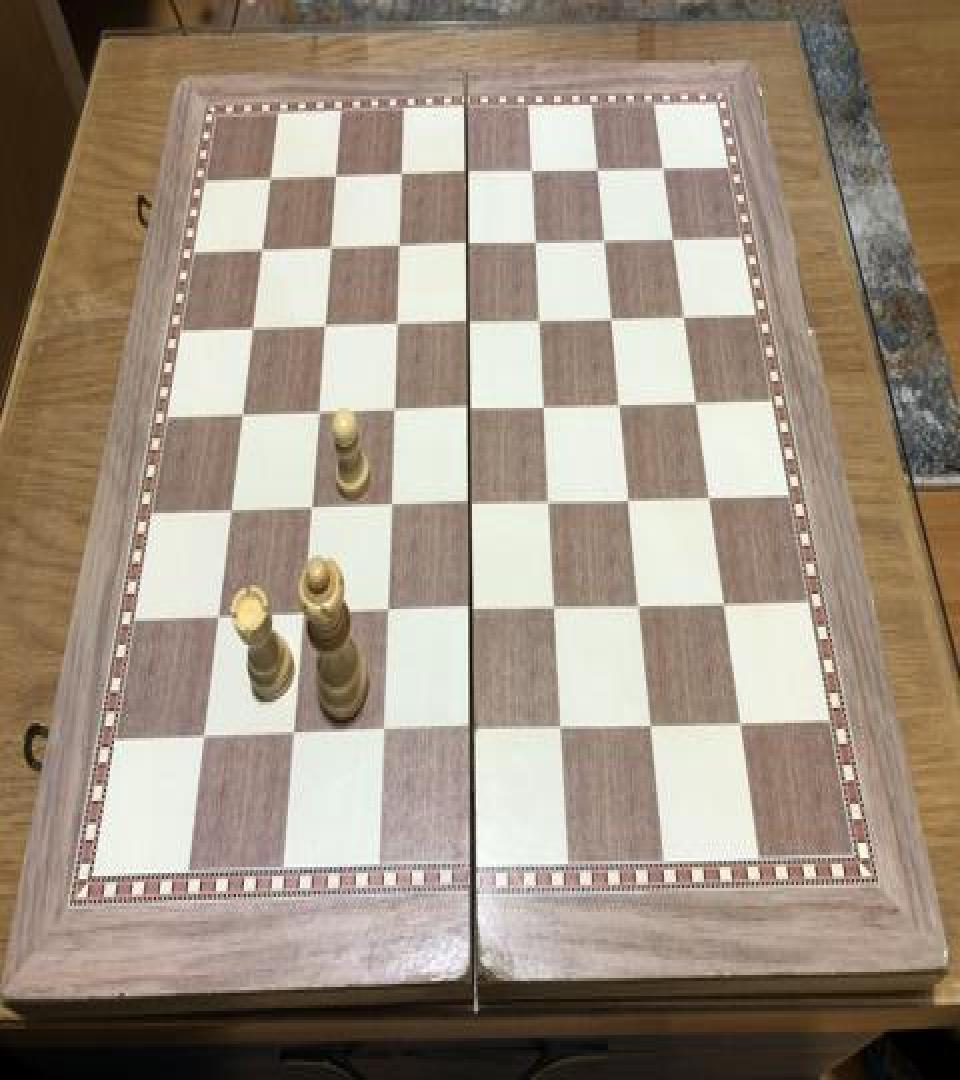xcorner: (714, 586, 738, 623), (377, 595, 401, 632), (462, 712, 486, 749), (283, 718, 307, 755), (655, 150, 679, 186), (590, 152, 614, 188), (524, 153, 548, 189), (458, 154, 482, 190), (392, 156, 416, 192), (326, 158, 350, 194), (259, 159, 283, 195), (665, 220, 689, 256), (596, 224, 620, 260), (527, 225, 551, 261), (458, 226, 482, 262), (389, 228, 413, 264), (320, 230, 344, 266), (251, 231, 275, 267), (676, 300, 700, 336), (604, 302, 628, 338), (531, 303, 555, 339), (459, 304, 483, 340), (387, 306, 411, 342), (314, 308, 338, 344), (241, 310, 265, 346), (687, 386, 711, 422), (612, 387, 636, 423), (536, 388, 560, 424), (460, 392, 484, 428), (384, 393, 408, 429), (307, 394, 331, 430), (231, 398, 255, 434), (700, 480, 724, 516), (620, 483, 644, 519), (541, 484, 565, 520), (461, 488, 485, 524), (380, 489, 404, 525), (300, 490, 324, 526), (219, 494, 243, 530), (630, 590, 654, 626), (546, 591, 570, 627), (461, 594, 485, 630), (292, 598, 316, 634), (207, 600, 231, 636), (730, 705, 754, 741), (641, 708, 665, 744), (552, 711, 576, 747), (373, 716, 397, 752), (192, 722, 216, 758)
